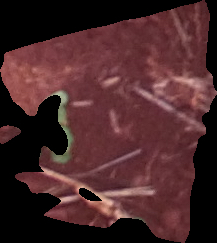soil: (2, 3, 212, 243)
